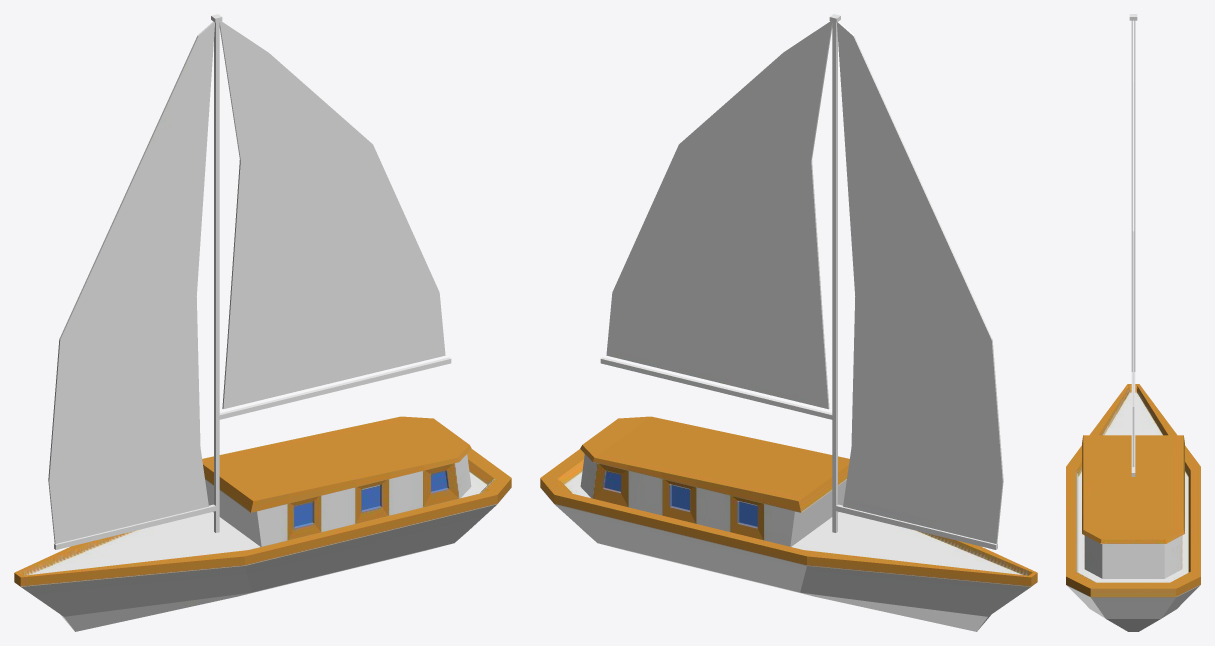
File: small_ship.fbx
3 views of the same model, side by side, from view 1: azimuth 30°, elevation 25°; view 2: azimuth 150°, elevation 25°; view 3: azimuth 270°, elevation 25° (orthographic). The views are drawn at different scales.
Visible parts, largest first — view 1: Cube.004, Cube.003, Cube, Cube.001, Cube.002; view 2: Cube.004, Cube.003, Cube, Cube.001, Cube.002; view 3: Cube.001, Cube, Cube.002, Cube.004.
Part boxes in pixels (x1=…): Cube.004: x1=219, y1=21, x2=445, y2=409; Cube.003: x1=48, y1=21, x2=214, y2=543; Cube: x1=14, y1=449, x2=511, y2=631; Cube.001: x1=202, y1=416, x2=471, y2=546; Cube.002: x1=54, y1=14, x2=451, y2=549; Cube.004: x1=606, y1=21, x2=832, y2=409; Cube.003: x1=837, y1=21, x2=1003, y2=543; Cube: x1=540, y1=449, x2=1037, y2=631; Cube.001: x1=580, y1=416, x2=849, y2=546; Cube.002: x1=600, y1=14, x2=997, y2=549; Cube.001: x1=1082, y1=435, x2=1184, y2=578; Cube: x1=1066, y1=384, x2=1200, y2=631; Cube.002: x1=1129, y1=14, x2=1137, y2=476; Cube.004: x1=1132, y1=20, x2=1134, y2=466.
Size of the model in its own units: 1039 by 1226 by 289.
